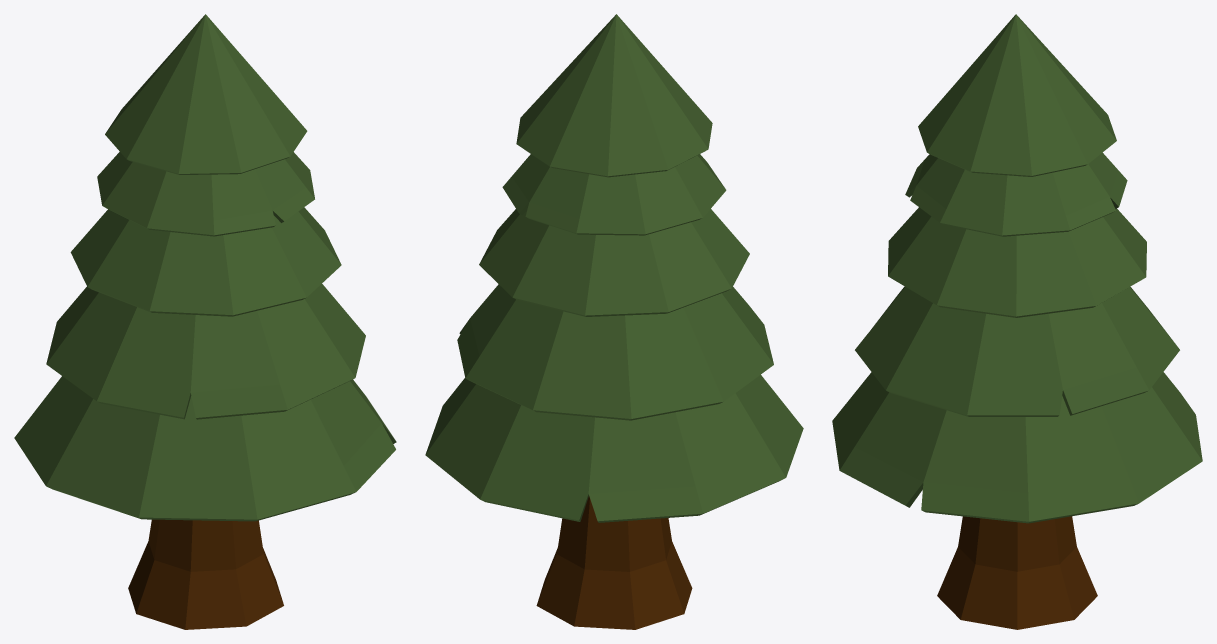
File: three4.glb
The picture shows the model from 3 angles, left to right: view 1: azimuth 30°, elevation 25°; view 2: azimuth 150°, elevation 25°; view 3: azimuth 270°, elevation 25°; orthographic projection.
Parts seen in each view (by area): view 1: tree4.005; view 2: tree4.005; view 3: tree4.005.
Part boxes in pixels (x1=…): tree4.005: x1=14, y1=14, x2=396, y2=629; tree4.005: x1=425, y1=14, x2=803, y2=629; tree4.005: x1=832, y1=14, x2=1202, y2=629.
Bounding box in the file's own units: 1.42 × 2.38 × 1.38.
